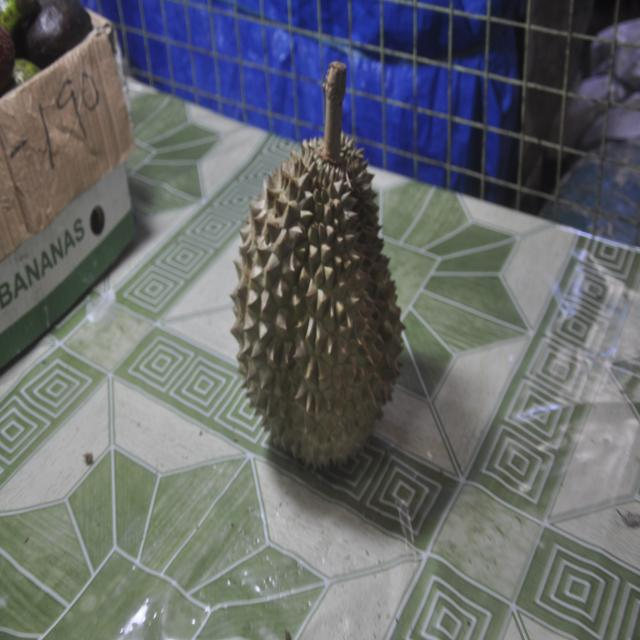mature: (231, 62, 404, 469)
